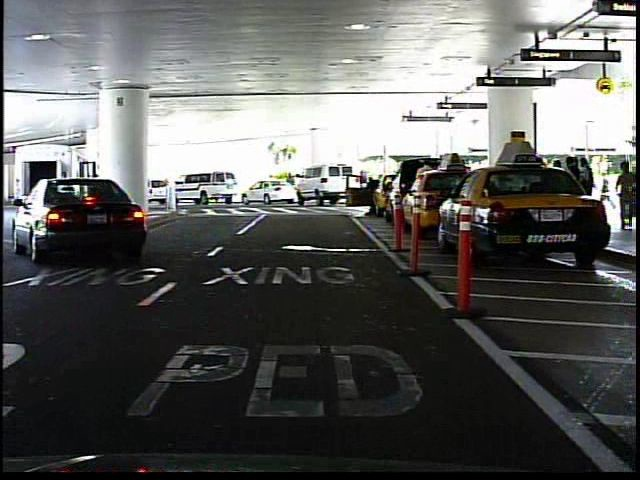person: (610, 160, 639, 230), (359, 171, 383, 222), (599, 165, 617, 206), (286, 169, 298, 200), (267, 173, 277, 180)
